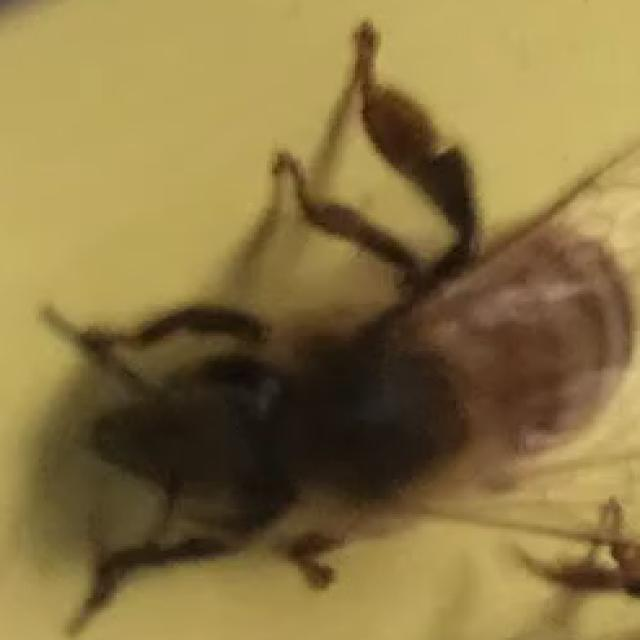honeybee: (98, 190, 640, 544)
